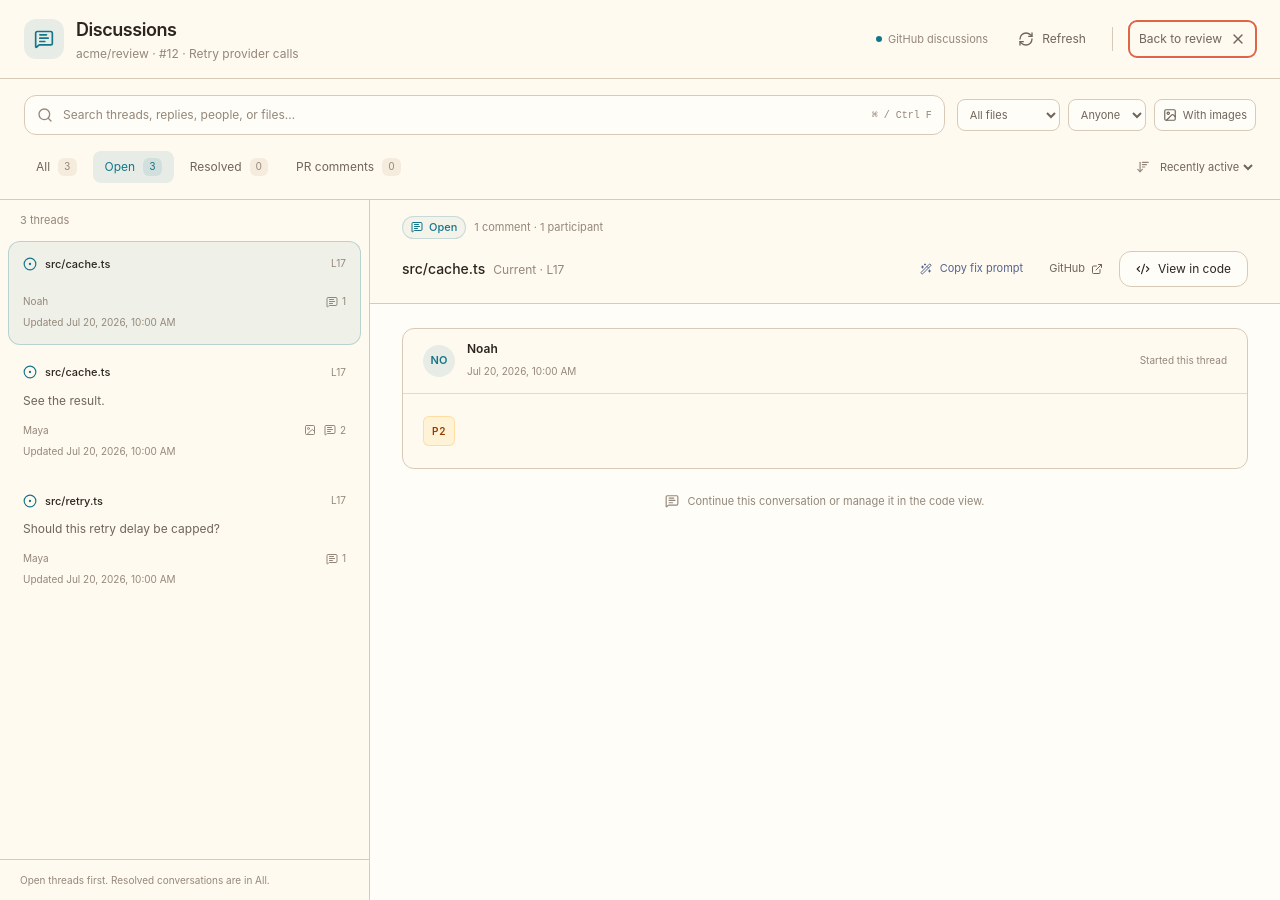
Test: ReviewDiscussionsPanel › combines file, participant, and image filters across complete threads
Select "src/cache.ts" in the dropdown named "Filter discussions by file" at [1008, 115], box top-left (957, 99), bottom-right (1060, 131)
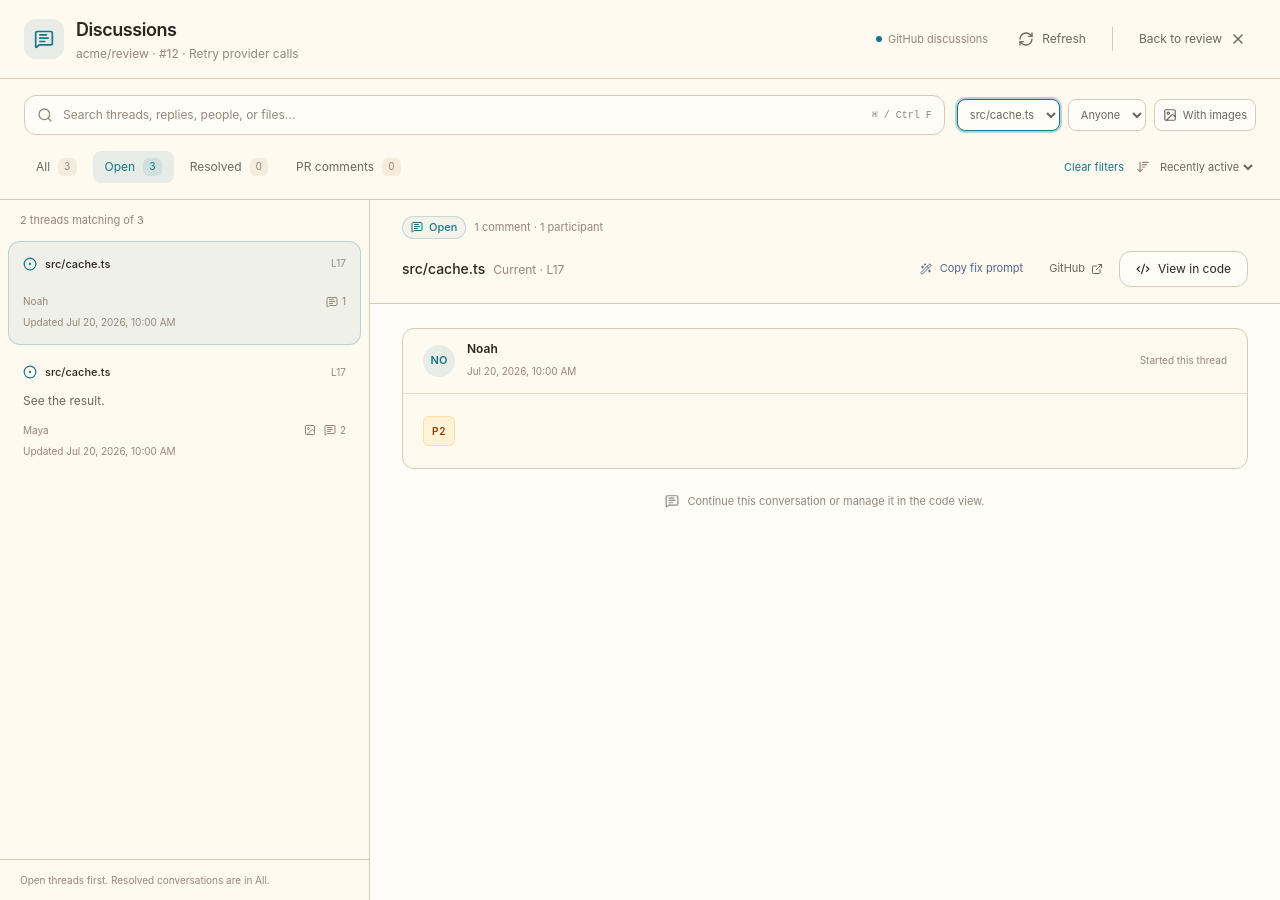
Select "Noah" in the dropdown named "Filter discussions by participant" at [1107, 115], box top-left (1068, 99), bottom-right (1146, 131)
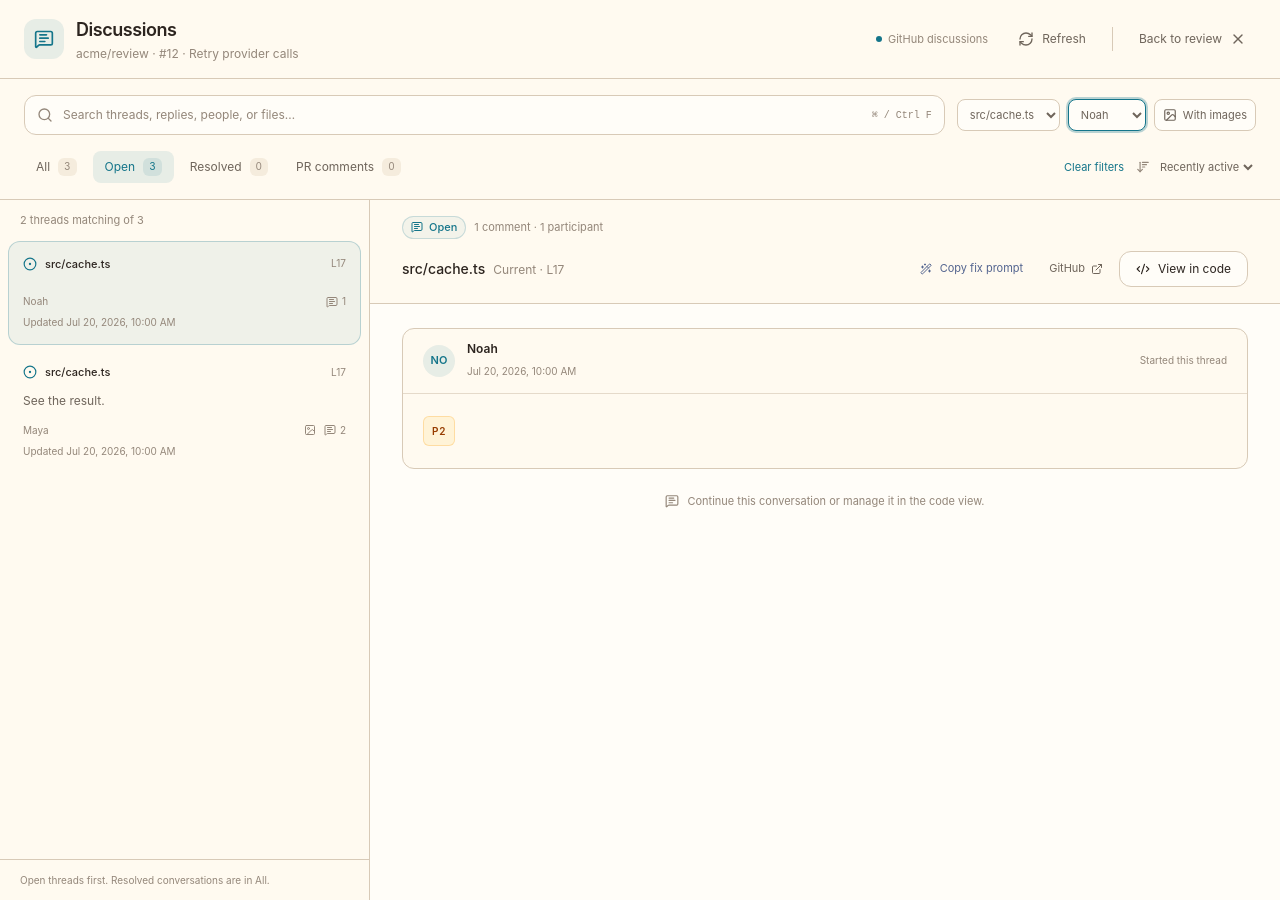
Click the button "With images" at [1205, 115], box top-left (1154, 99), bottom-right (1256, 131)
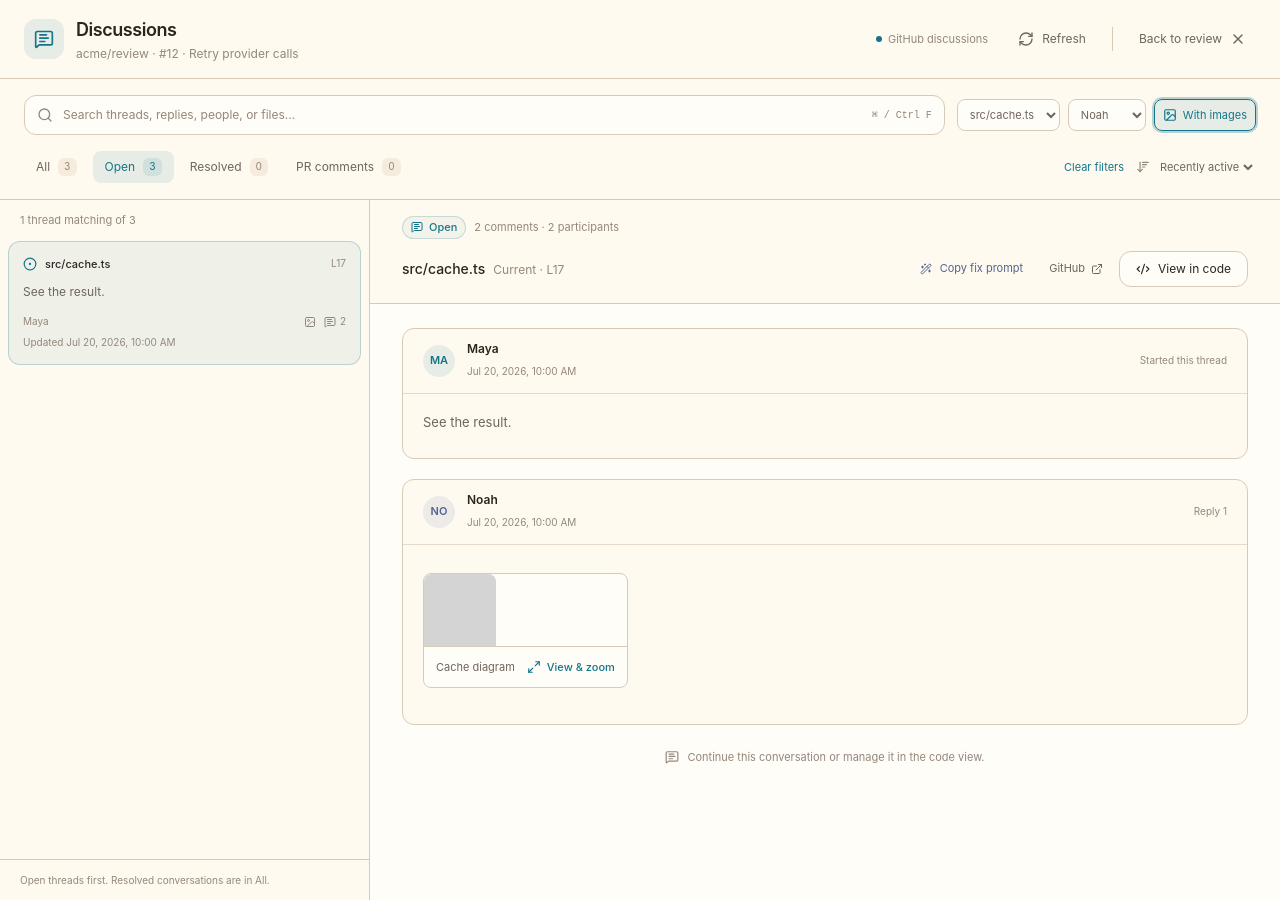
Expected: the message reads "1 thread matching of 3", top-left (20, 212), bottom-right (136, 228)
Expected: the button with aria-label "Enlarge image: Cache diagram" is shown, top-left (423, 572), bottom-right (628, 688)
Click the button "Clear filters" at [1094, 167], box top-left (1064, 159), bottom-right (1124, 175)
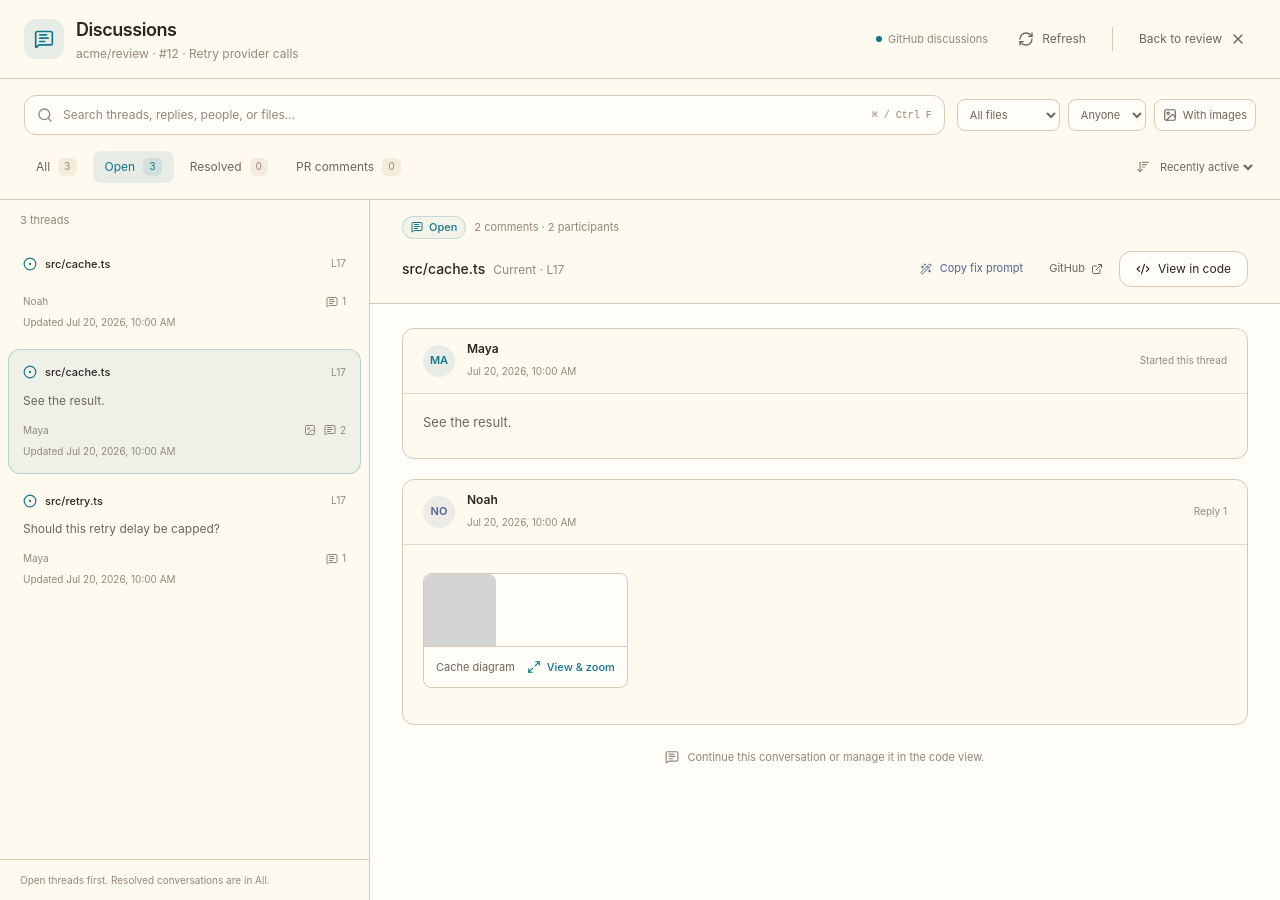
Expected: the message reads "3 threads", top-left (20, 212), bottom-right (69, 228)
